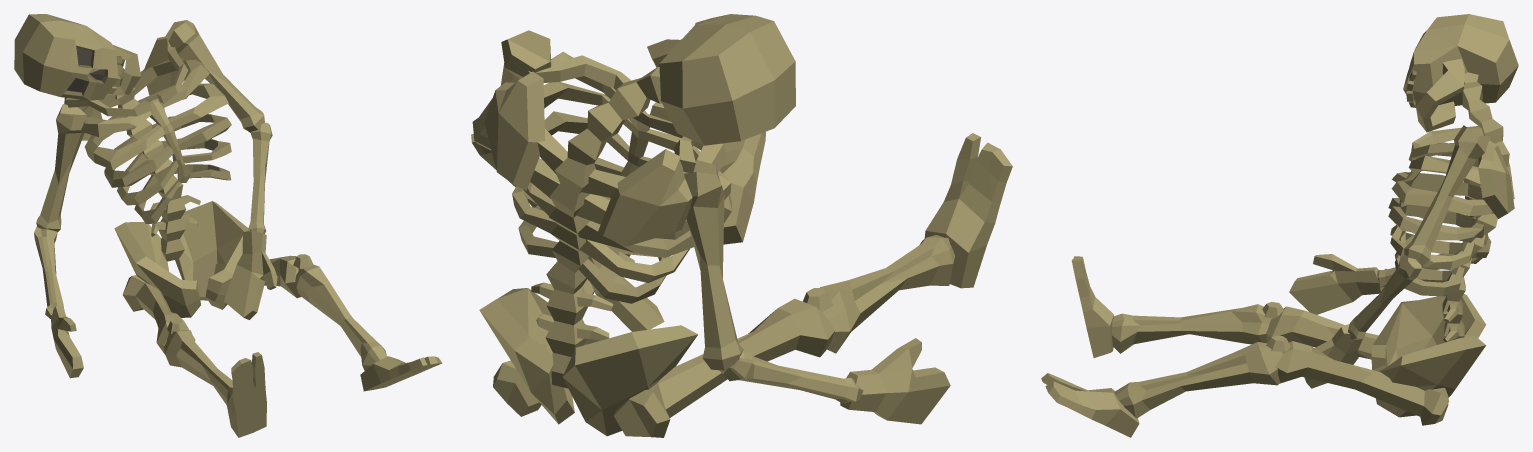
The model's file is Sceleton_3.fbx.
3 renders of one model, left to right at view 1: azimuth 30°, elevation 25°; view 2: azimuth 150°, elevation 25°; view 3: azimuth 270°, elevation 25°, orthographic. The views are drawn at different scales.
Visible parts, largest first — view 1: Sceleton_3; view 2: Sceleton_3; view 3: Sceleton_3.
Part boxes in pixels (left/top/right/bottom): Sceleton_3: left=14, top=14, right=442, bottom=437; Sceleton_3: left=471, top=14, right=1012, bottom=437; Sceleton_3: left=1041, top=14, right=1518, bottom=437.
Size of the model in its own units: 76.29 by 83.62 by 111.
